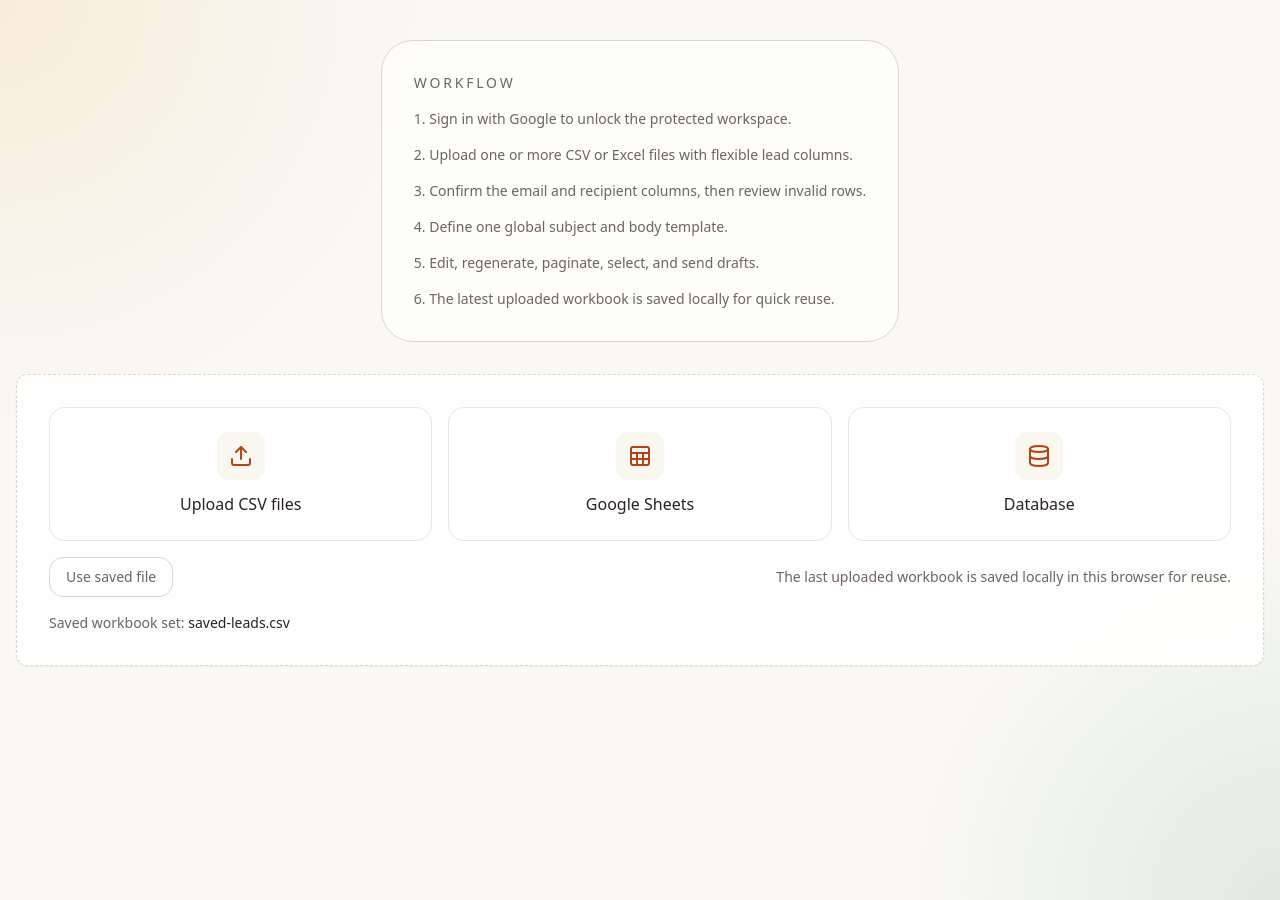
it: CampaignBuilderPage › restores the saved workbook from the upload screen
Expected: the text "Saved workbook set:" is shown, [49,613,188,632]
Expected: the text "saved-leads.csv" is shown, [188,613,290,632]
Click the button "Use saved file".
click(111, 577)  # box [49,557,173,597]
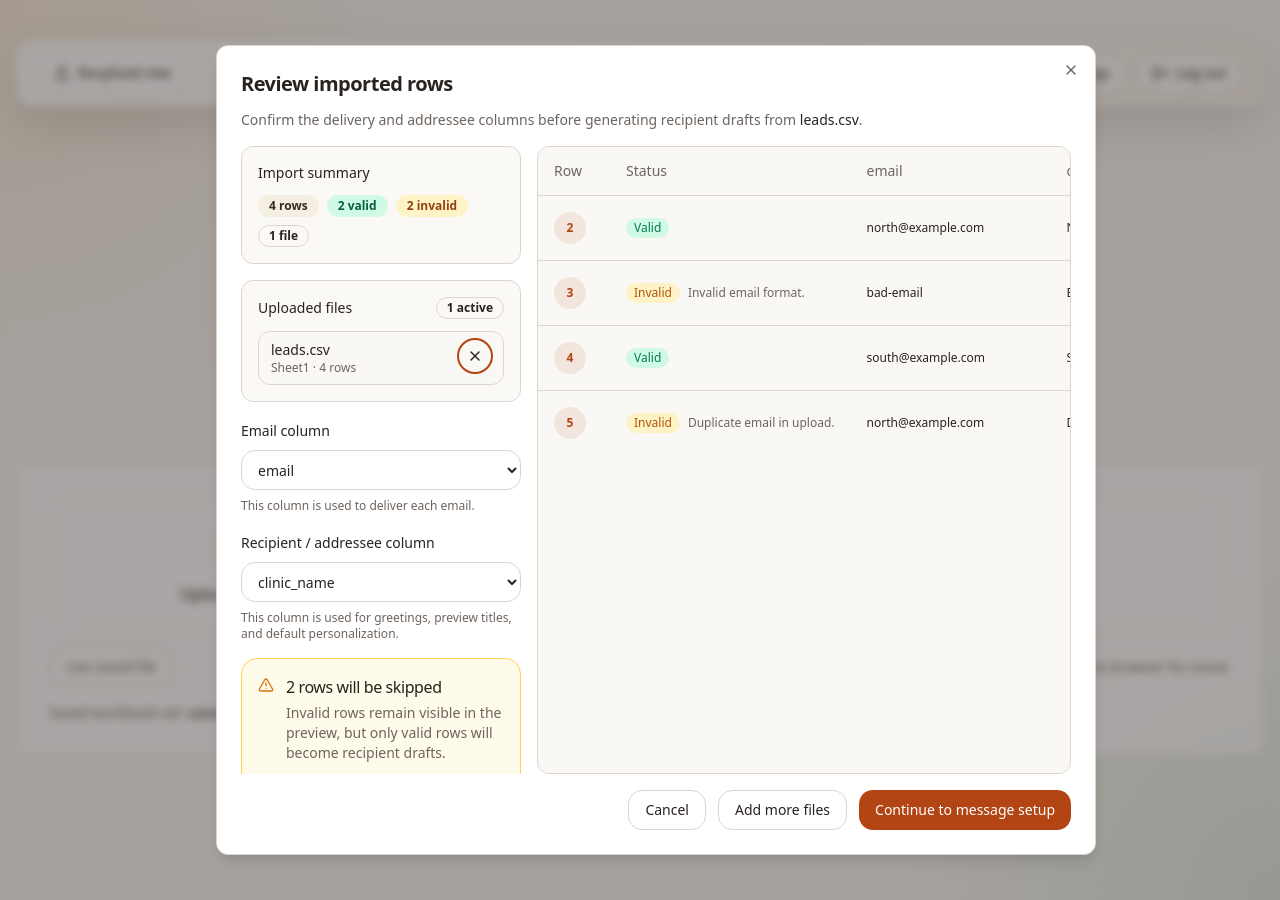
Result: the heading "Review imported rows" is shown at [241,70,453,97]
